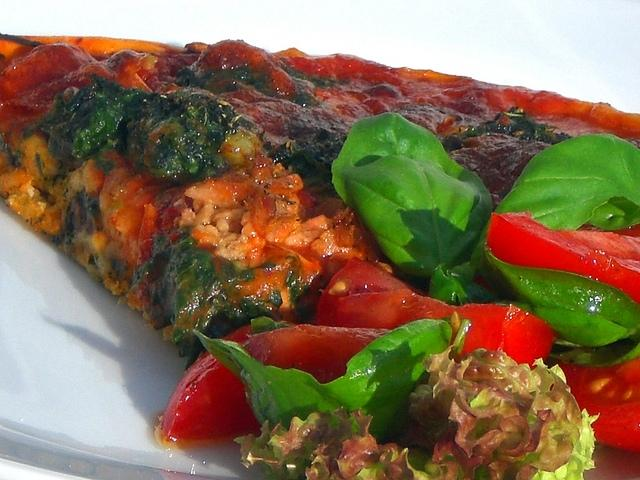broccoli: (131, 226, 283, 373), (21, 73, 147, 162), (270, 134, 346, 198), (74, 184, 100, 226), (232, 63, 254, 86)
tomato: (317, 255, 561, 372), (486, 212, 638, 304), (545, 354, 640, 453), (248, 324, 392, 383)
